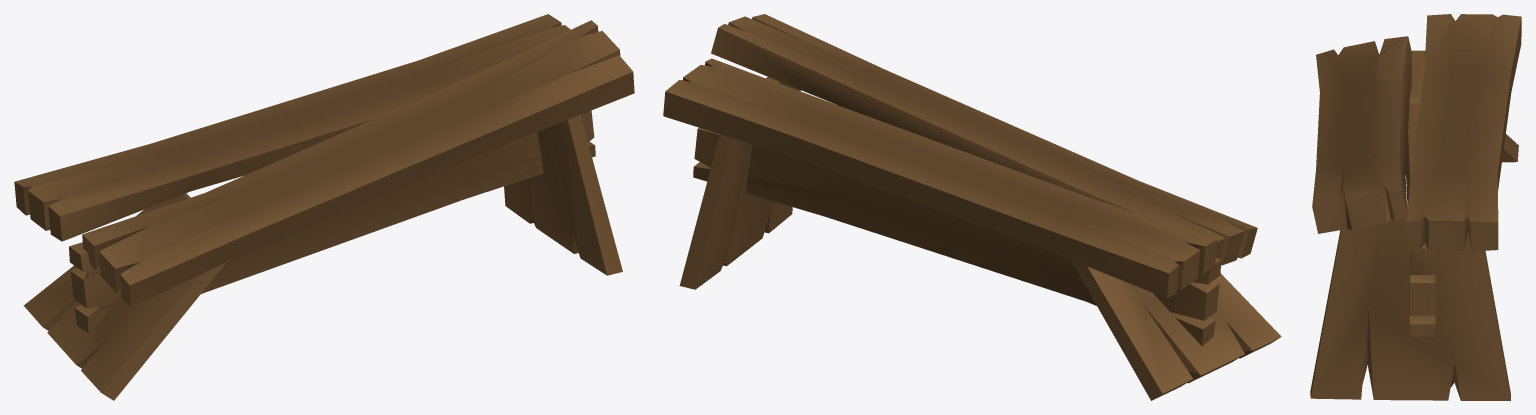
The model's file is obj_bench_broken_LOW.FBX.
3 renders of one model, left to right at view 1: azimuth 30°, elevation 25°; view 2: azimuth 150°, elevation 25°; view 3: azimuth 270°, elevation 25°, orthographic.
Visible parts, largest first — view 1: obj_bench_broken_LOW; view 2: obj_bench_broken_LOW; view 3: obj_bench_broken_LOW.
Part boxes in pixels (x1,y1,x2,y2): obj_bench_broken_LOW: (14, 14, 634, 400); obj_bench_broken_LOW: (663, 14, 1281, 400); obj_bench_broken_LOW: (1310, 14, 1521, 400).
Size of the model in its own units: 3.45 by 1.37 by 1.17.
